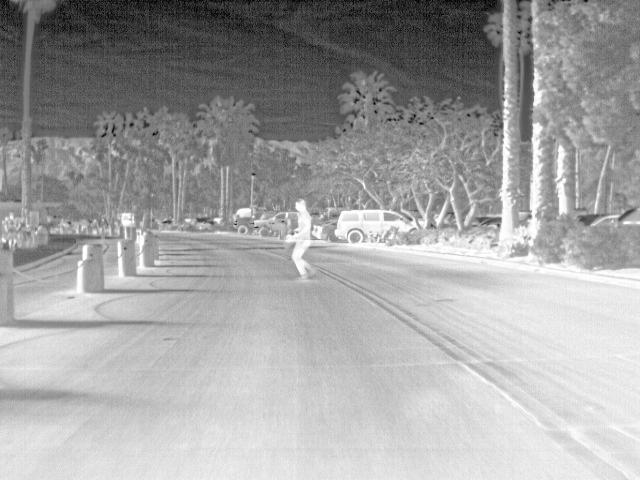car: (336, 207, 419, 245), (255, 213, 286, 235), (316, 214, 339, 242), (579, 211, 616, 228), (610, 205, 640, 225), (235, 218, 254, 236), (470, 214, 488, 228), (487, 216, 503, 230)
person: (294, 197, 315, 281), (6, 210, 20, 249)
